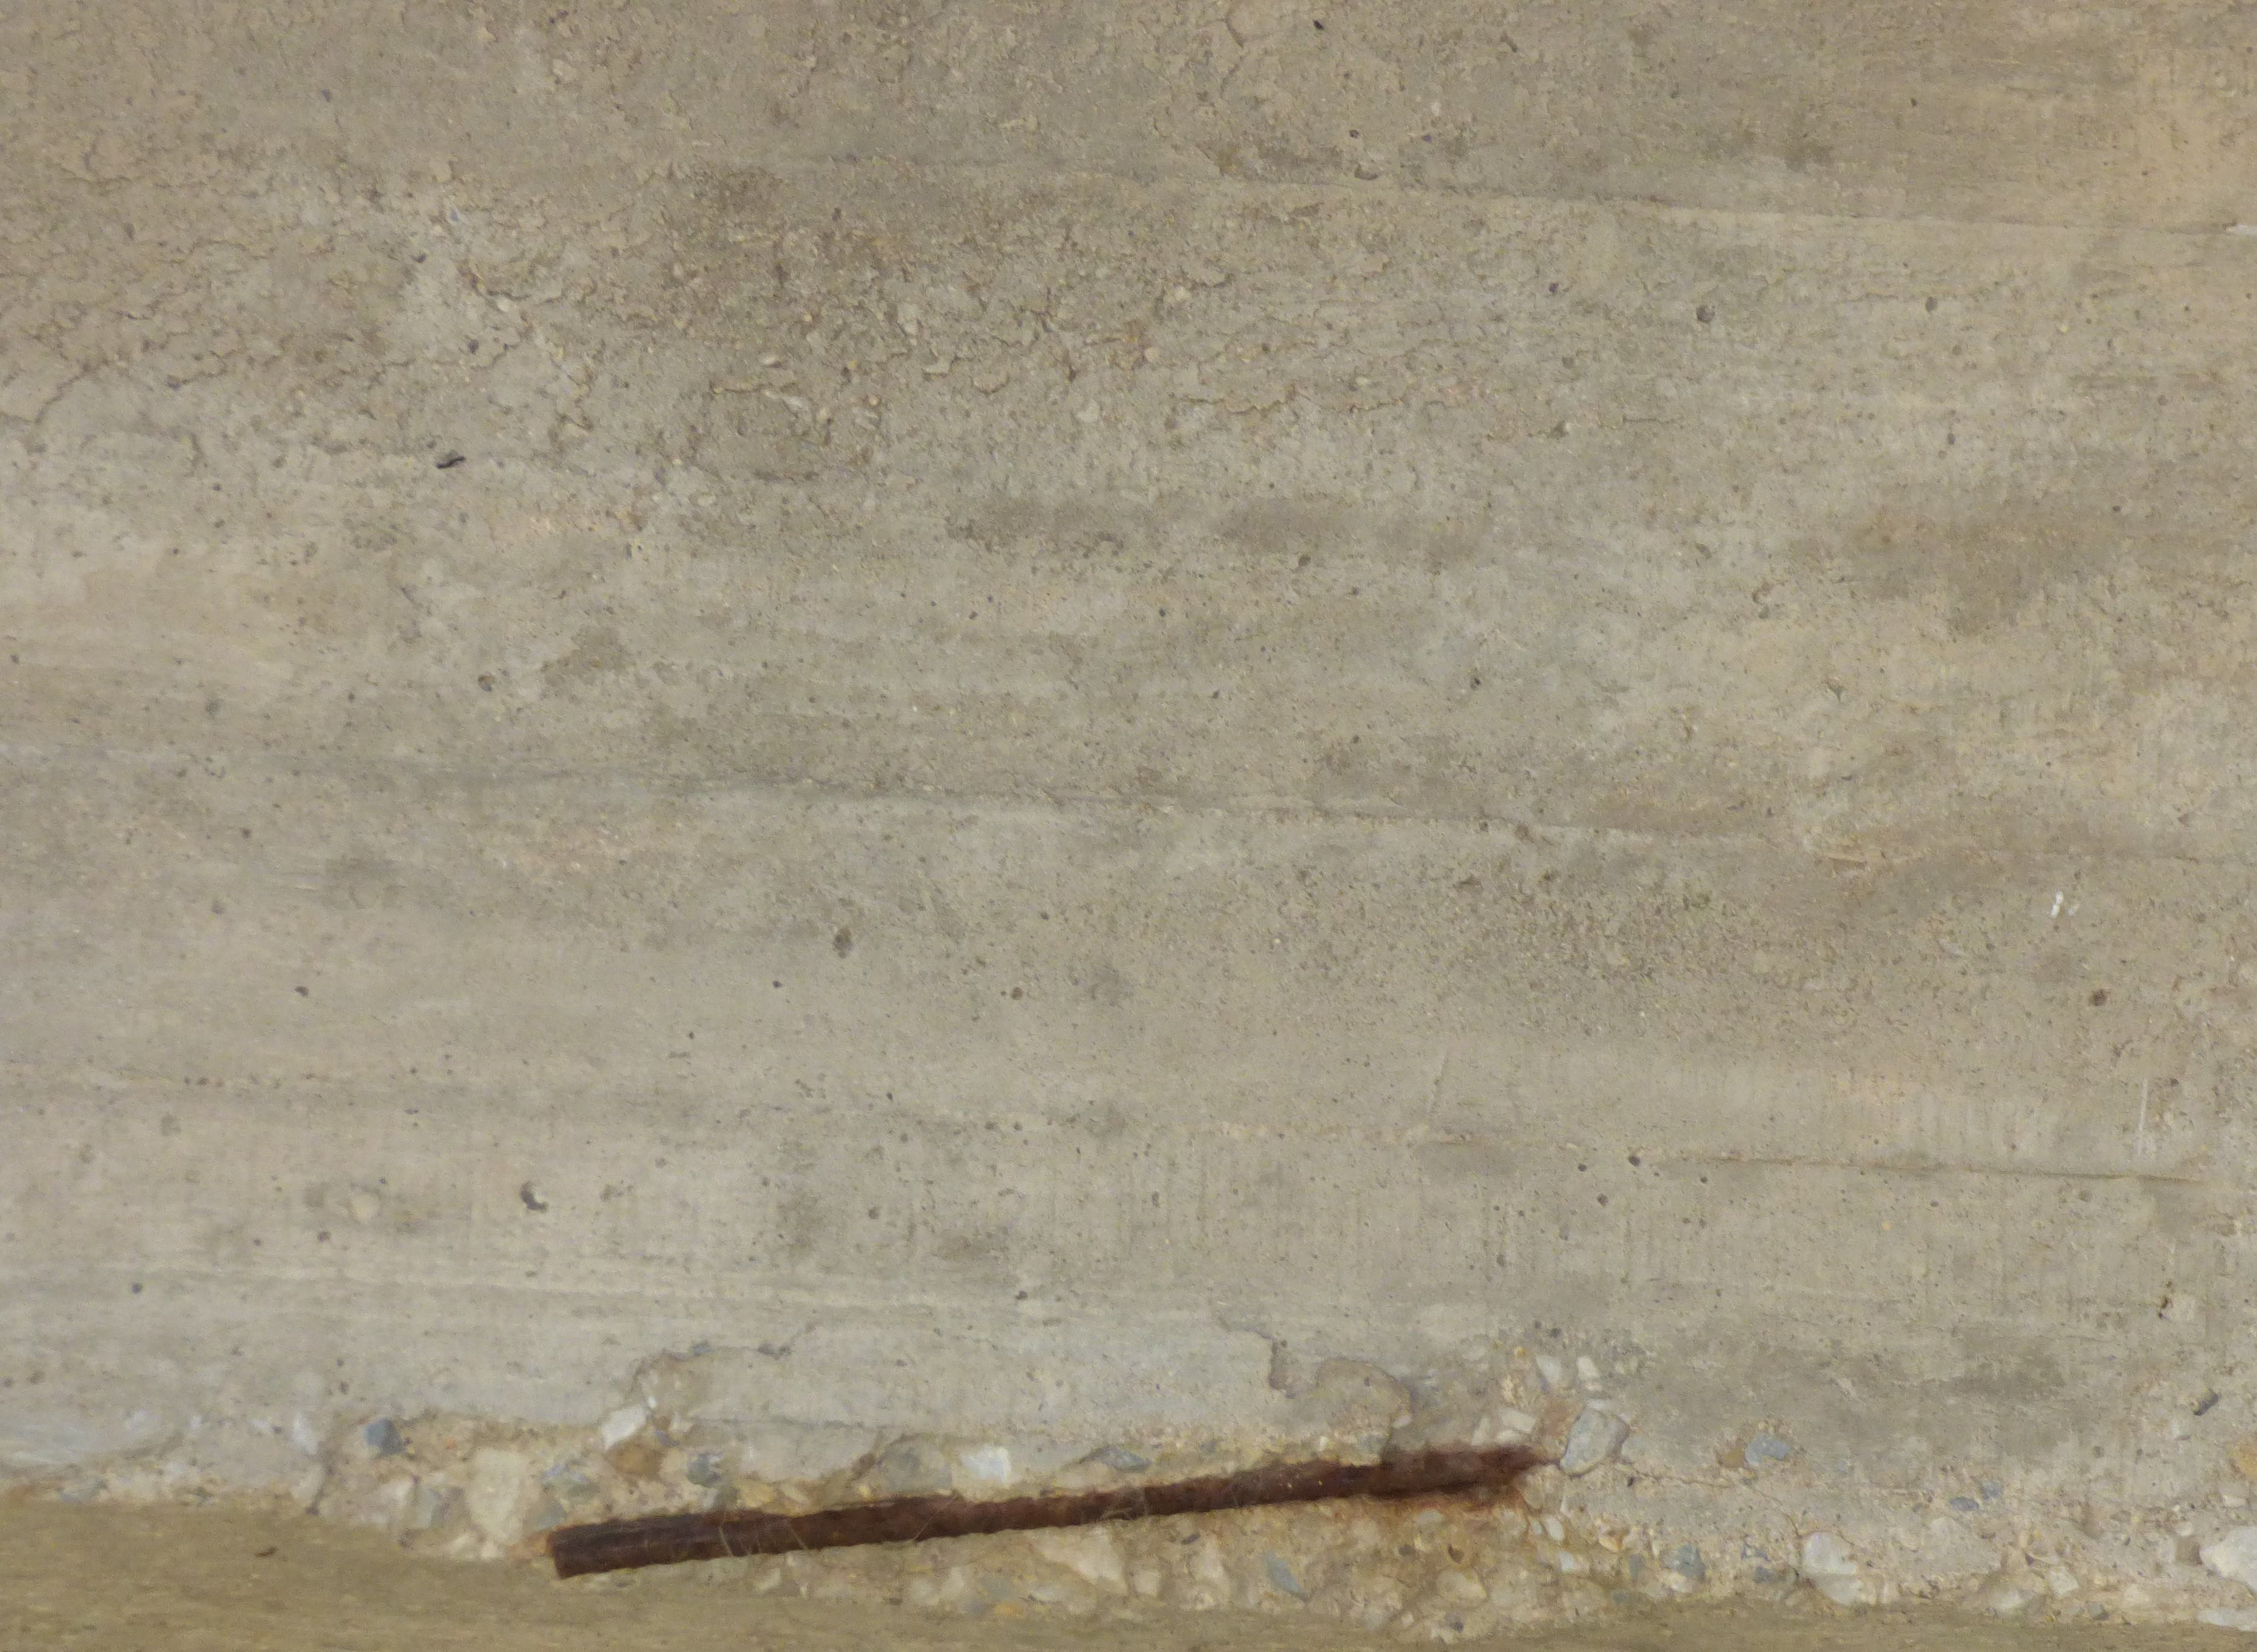Exposed reinforcement: (543, 1442, 1542, 1582)
Spalling: (286, 1326, 1800, 1652)
